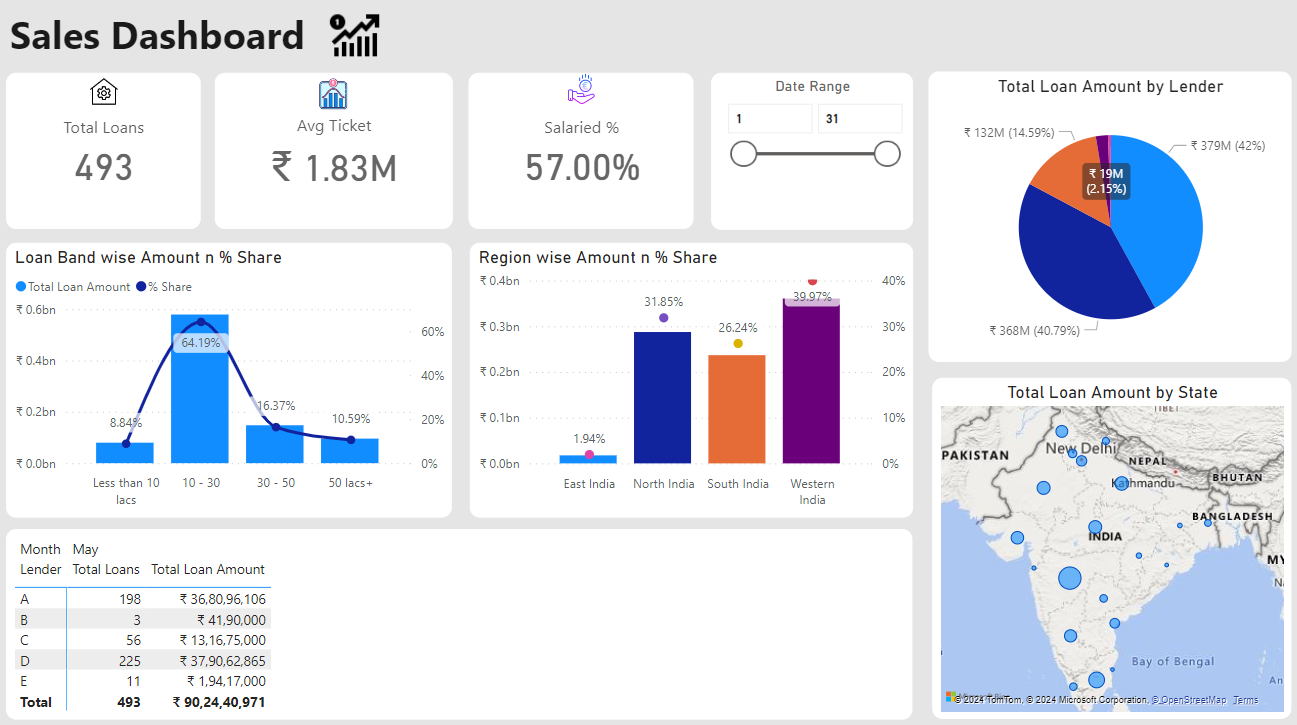

What the dashboard file says about the page in this screenshot:
{"tool":"powerbi","page":{"name":"Sales Dashboard","canvas":[1280,720],"ordinal":7},"visuals":[{"type":"cardVisual","title":"Total Loans","fields":{"Data":["All_measures.Number of Loans"]},"box":[15,77.5,190,152.5],"z":0,"group":"g3"},{"type":"lineStackedColumnComboChart","title":" Loan Band wise Amount n % Share","fields":{"Category":["Data.Loan Band"],"Y":["All_measures.Total Loan Amount"],"Y2":["Divide(All_measures.Total Loan Amount, ScopedEval(All_measures.Total Loan Amount, []))"]},"box":[15,242.5,436.2,268.8],"z":0,"group":"g5"},{"type":"cardVisual","title":"Avg Ticket","fields":{"Data":["All_measures.Avg Ticket"]},"box":[218.8,77.5,232.5,152.5],"z":1000,"group":"g2"},{"type":"lineStackedColumnComboChart","title":"Region wise Amount n % Share","fields":{"Category":["Data.Region","Data.State","Data.BRANCHNAME"],"Y":["All_measures.Total Loan Amount"],"Y2":["Divide(All_measures.Total Loan Amount, ScopedEval(All_measures.Total Loan Amount, []))"],"Series":["Data.Region"]},"box":[468,242.8,433.6,269],"z":1000,"group":"g5"},{"type":"cardVisual","title":"Salaried %","fields":{"Data":["All_measures.Salaried %"]},"box":[467.6,77.5,220,152.5],"z":2000,"group":"g1"},{"type":"pivotTable","fields":{"Rows":["Data.Lender"],"Values":["All_measures.Number of Loans","All_measures.Total Loan Amount"],"Columns":["Data.Loan Sanction Date.Variation.Date Hierarchy.Month"]},"box":[15.1,522.8,886.5,186.6],"z":2000,"group":"g5"},{"type":"slicer","title":"Date Range","fields":{"Values":["Data.Loan Sanction Date.Variation.Date Hierarchy.Day"]},"box":[704,76.8,197.6,153.7],"z":3000,"group":"g5"},{"type":"map","fields":{"Category":["Data.State","Data.Pincode"],"Size":["All_measures.Total Loan Amount"]},"box":[920.4,375.4,351.2,333.8],"z":4000,"group":"g5"},{"type":"textbox","box":[13.8,8.7,1257.5,68.8],"z":5000,"group":"g4"},{"type":"group","id":"g1","title":"Group 1","box":[467.6,73.3,220,156.7],"z":5000,"group":"g5"},{"type":"group","id":"g2","title":"Group 2","box":[218.8,77,232.5,153],"z":6000,"group":"g5"},{"type":"group","id":"g3","title":"Group 3","box":[15,77,190,153],"z":7000,"group":"g5"},{"type":"group","id":"g4","title":"Group 4","box":[13.8,8.2,1257.5,69.3],"z":8000,"group":"g5"},{"type":"pieChart","fields":{"Category":["Data.Lender"],"Y":["All_measures.Total Loan Amount"]},"box":[916.6,75.4,355,283.8],"z":9000,"group":"g5"},{"type":"image","box":[315.7,8.2,78.2,63.1],"z":9001,"group":"g4"},{"type":"image","box":[89.2,77,42.8,37.9],"z":9001,"group":"g3"},{"type":"image","box":[314.2,77,41.6,41.6],"z":9003,"group":"g2"},{"type":"group","id":"g5","title":"Group 5","box":[13.8,8.2,1257.8,701.2],"z":9004},{"type":"image","box":[552.6,73.3,48.9,41.6],"z":9006,"group":"g1"}]}

Visuals, with their boxes in screenshot pixels (x1, y1, x2, y2), scaled from the page's 1280x720 canvas onto the 1297x725 screenshot:
"Total Loans" cardVisual: locate(15, 78, 208, 232)
" Loan Band wise Amount n % Share" lineStackedColumnComboChart: locate(15, 244, 457, 515)
"Avg Ticket" cardVisual: locate(222, 78, 457, 232)
"Region wise Amount n % Share" lineStackedColumnComboChart: locate(474, 244, 914, 515)
"Salaried %" cardVisual: locate(474, 78, 697, 232)
pivotTable - Data.Lender x All_measures.Number of Loans: locate(15, 526, 914, 714)
"Date Range" slicer: locate(713, 77, 914, 232)
map - Data.State x Data.Pincode: locate(933, 378, 1288, 714)
textbox: locate(14, 9, 1288, 78)
"Group 1" group: locate(474, 74, 697, 232)
"Group 2" group: locate(222, 78, 457, 232)
"Group 3" group: locate(15, 78, 208, 232)
"Group 4" group: locate(14, 8, 1288, 78)
pieChart - Data.Lender x All_measures.Total Loan Amount: locate(929, 76, 1288, 362)
image: locate(320, 8, 399, 72)
image: locate(90, 78, 134, 116)
image: locate(318, 78, 361, 119)
"Group 5" group: locate(14, 8, 1288, 714)
image: locate(560, 74, 609, 116)
